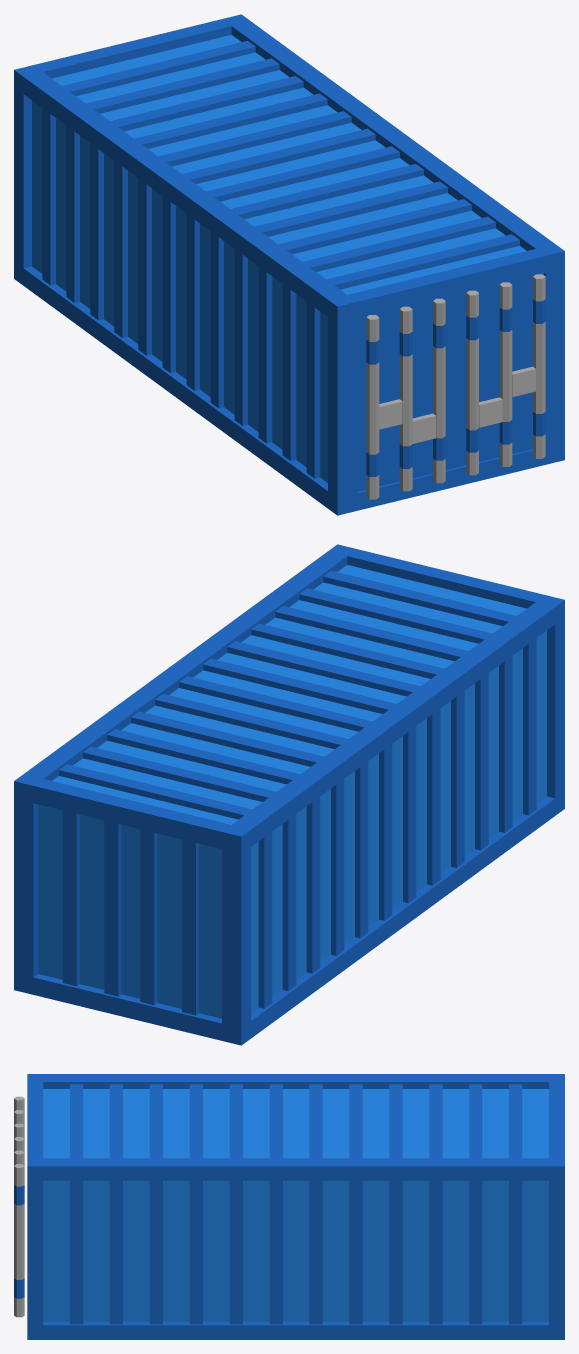
Rendered from Container1.fbx.
The picture shows the model from 3 angles, top to bottom: view 1: azimuth 30°, elevation 25°; view 2: azimuth 150°, elevation 25°; view 3: azimuth 270°, elevation 25°; orthographic projection. The views are drawn at different scales.
Parts seen in each view (by area): view 1: Container; view 2: Container; view 3: Container.
Part boxes in pixels (bbox=[...]): Container: bbox=[14, 14, 564, 515]; Container: bbox=[14, 544, 564, 1045]; Container: bbox=[14, 1074, 564, 1339].
Bounding box in the file's own units: 410 × 360 × 1035.
